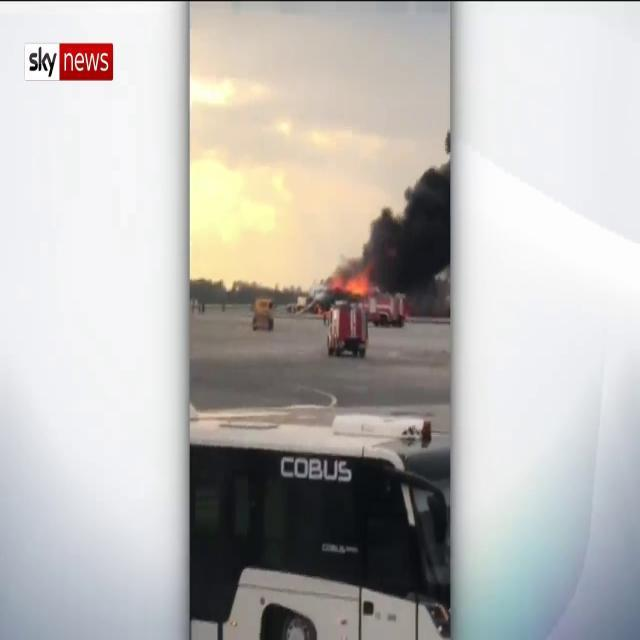Fire: (343, 270, 372, 300)
Smoke: (360, 161, 450, 299)
